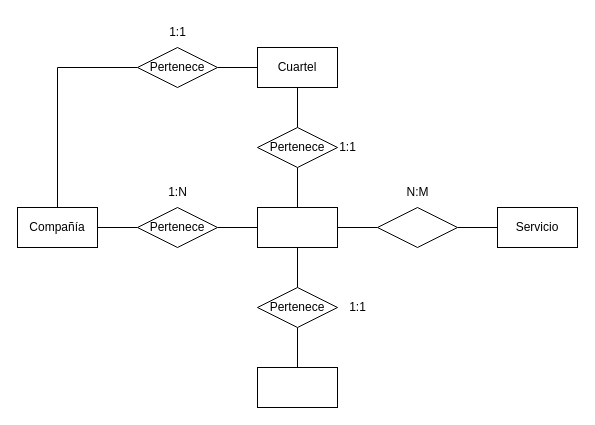
This 595x425 diagram has some shape labels left out. Here are the shapes that lost their labels. From the top down, the centre of each, then its label:
At [297,227]: "Soldado".
At [417,227]: "Realiza".
At [297,387]: "Cuerpo".
